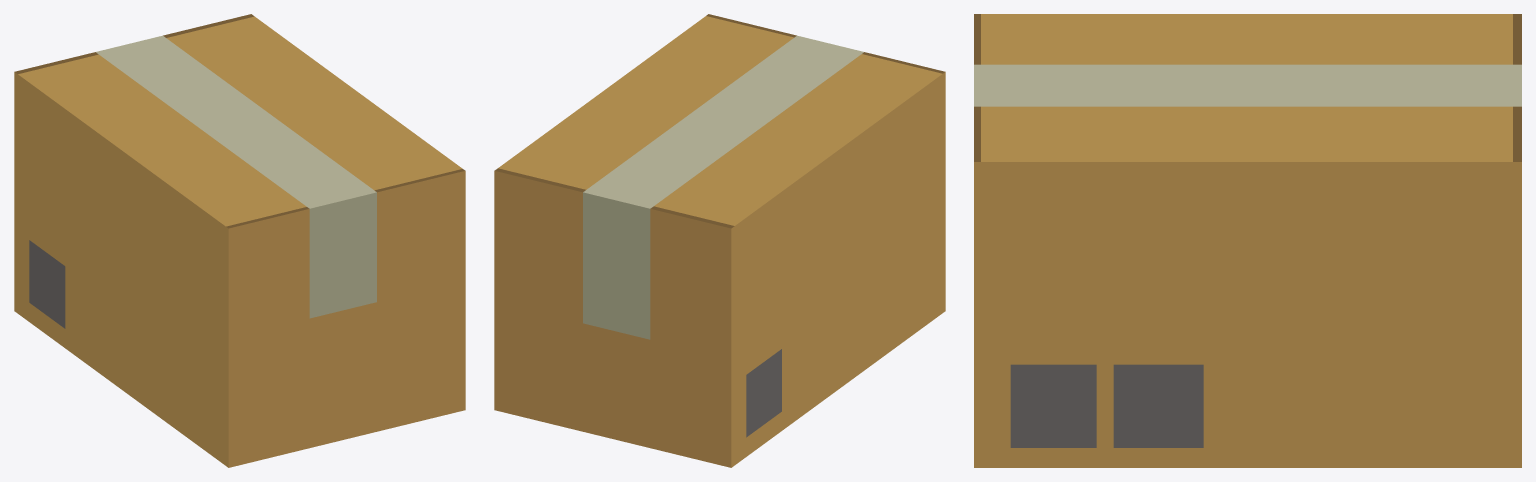
Rendered from CardboardBox.glb.
3 views of the same model, side by side, from view 1: azimuth 30°, elevation 25°; view 2: azimuth 150°, elevation 25°; view 3: azimuth 270°, elevation 25° (orthographic). The views are drawn at different scales.
Visible parts, largest first — view 1: SI_Prop_CarboardBox_01; view 2: SI_Prop_CarboardBox_01; view 3: SI_Prop_CarboardBox_01.
Part boxes in pixels (x1,y1,x2,y2): SI_Prop_CarboardBox_01: [14, 14, 465, 467]; SI_Prop_CarboardBox_01: [494, 14, 945, 467]; SI_Prop_CarboardBox_01: [974, 14, 1521, 467].
Size of the model in its own units: 0.00662 by 0.00639 by 0.0104.
1 material, 1 textured.
